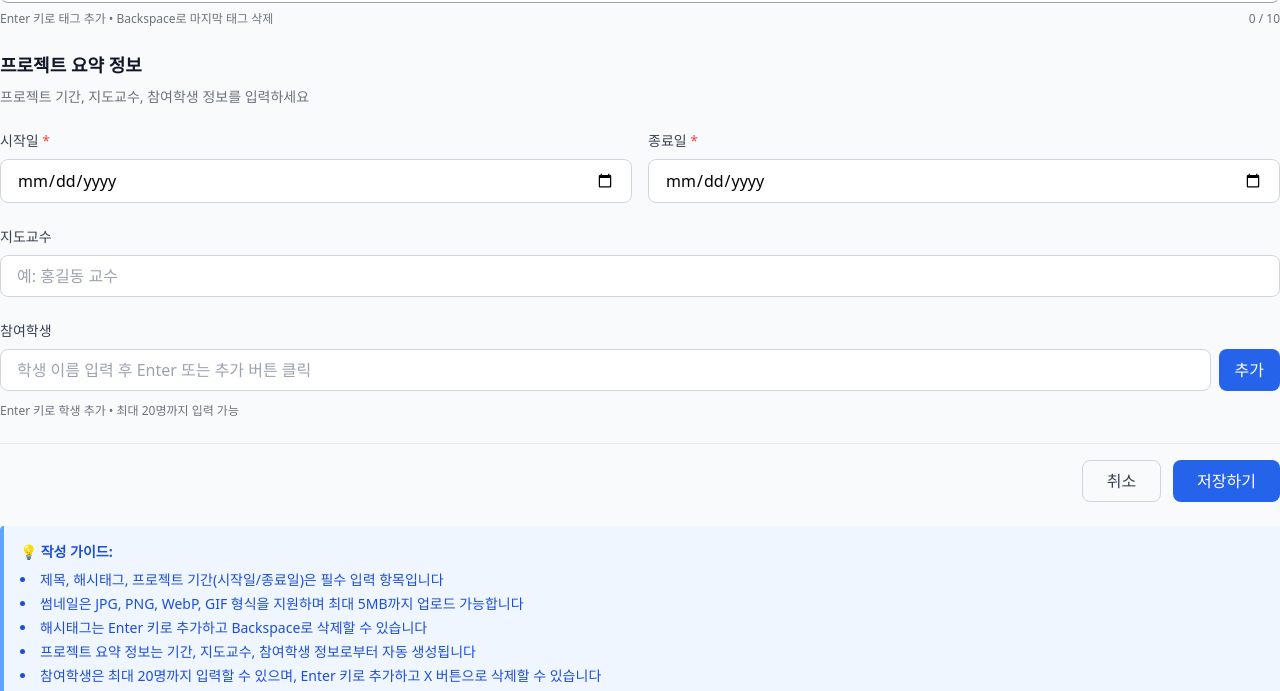
Test case: ProjectMetadataForm › Required Field Validation › should show errors when submitting without required fields
(page scrolled)
Click the button "저장하기". click: coordinates (1227, 481)
box: left=1173, top=460, right=1279, bottom=502
(page scrolled)
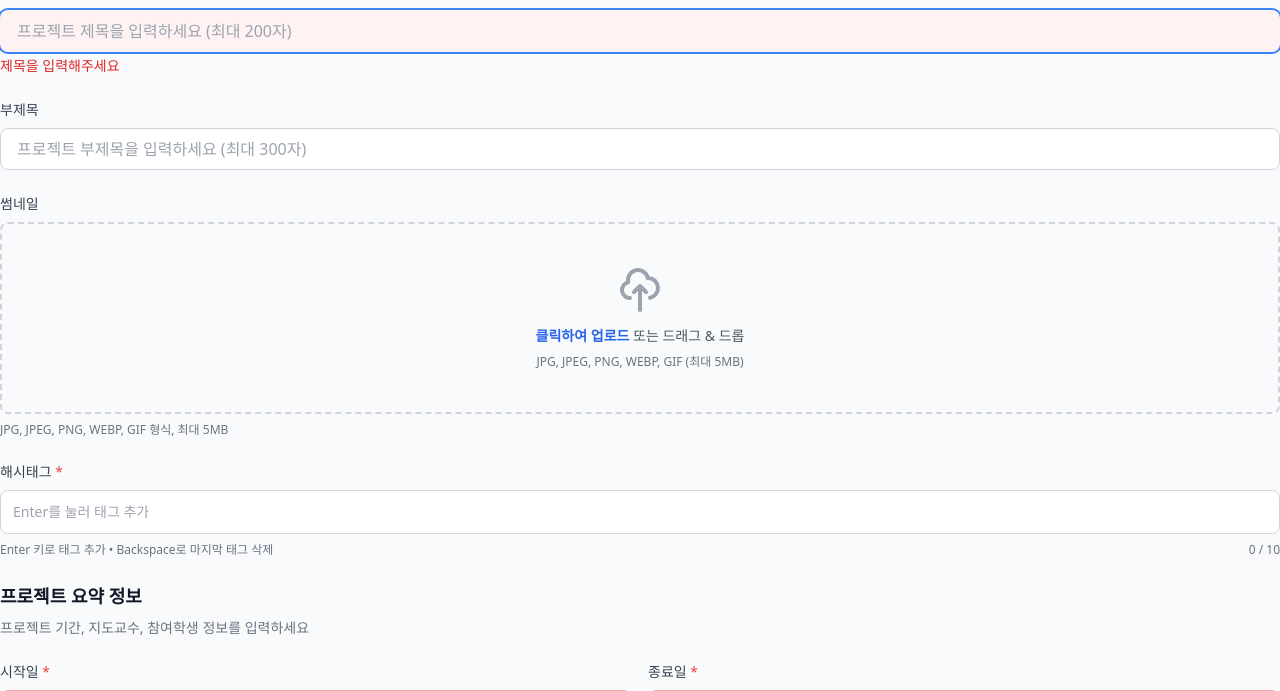
Expected: the text "제목을 입력해주세요" is shown, left=0, top=56, right=120, bottom=75
